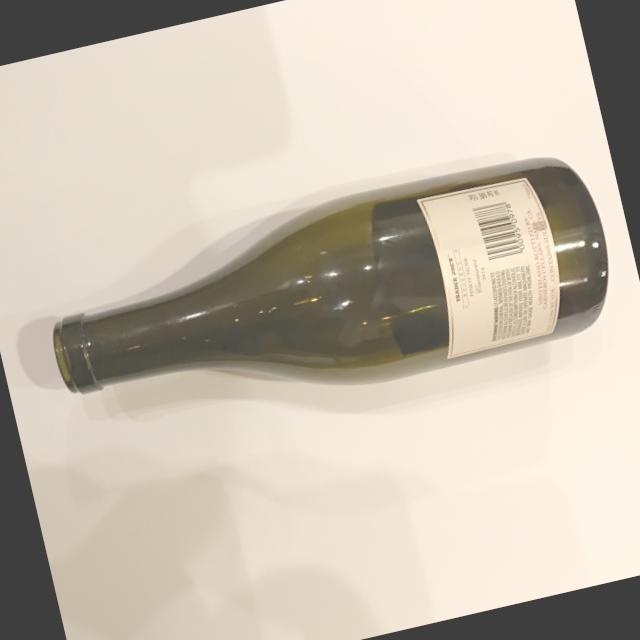Glass: (26, 132, 634, 472)
